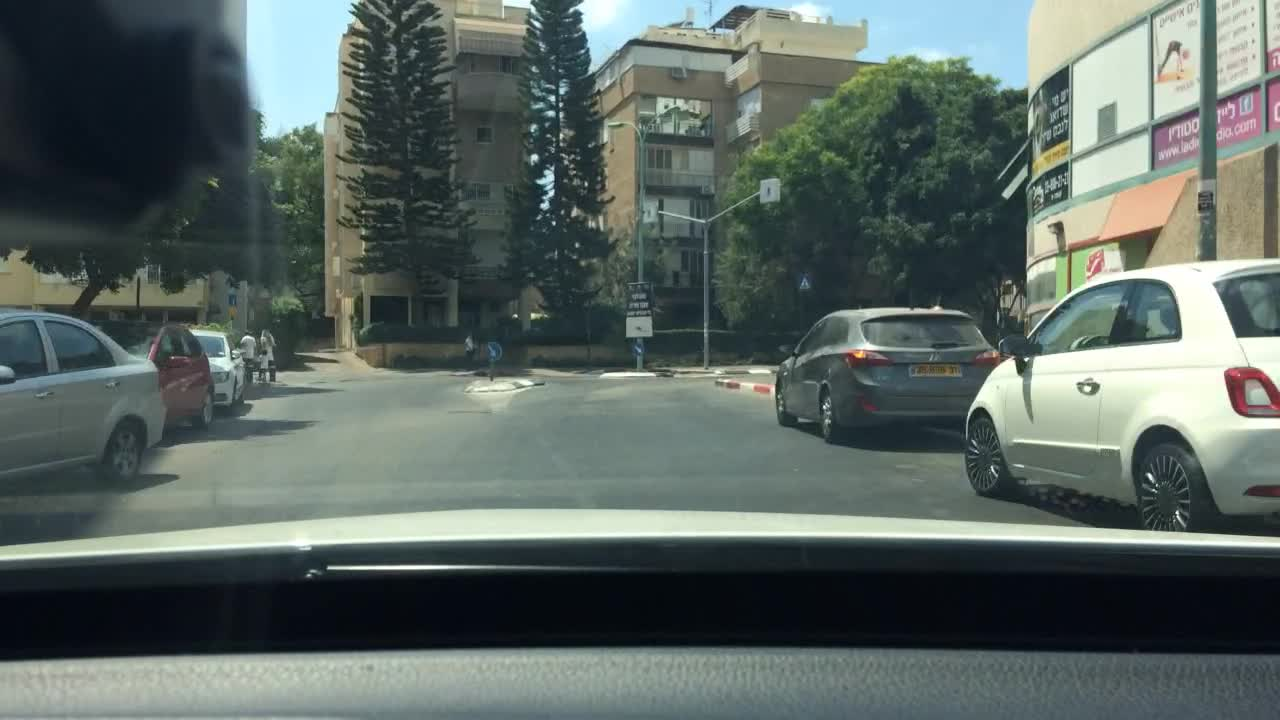car: (964, 255, 1279, 531), (771, 305, 995, 443), (0, 309, 167, 484), (104, 315, 214, 429), (193, 329, 244, 407)
person: (236, 332, 257, 380), (263, 329, 276, 385), (461, 331, 475, 368), (256, 351, 271, 379)
traffic sign: (626, 277, 650, 338), (759, 177, 782, 200), (484, 340, 501, 362), (639, 204, 658, 221), (627, 343, 642, 357)
